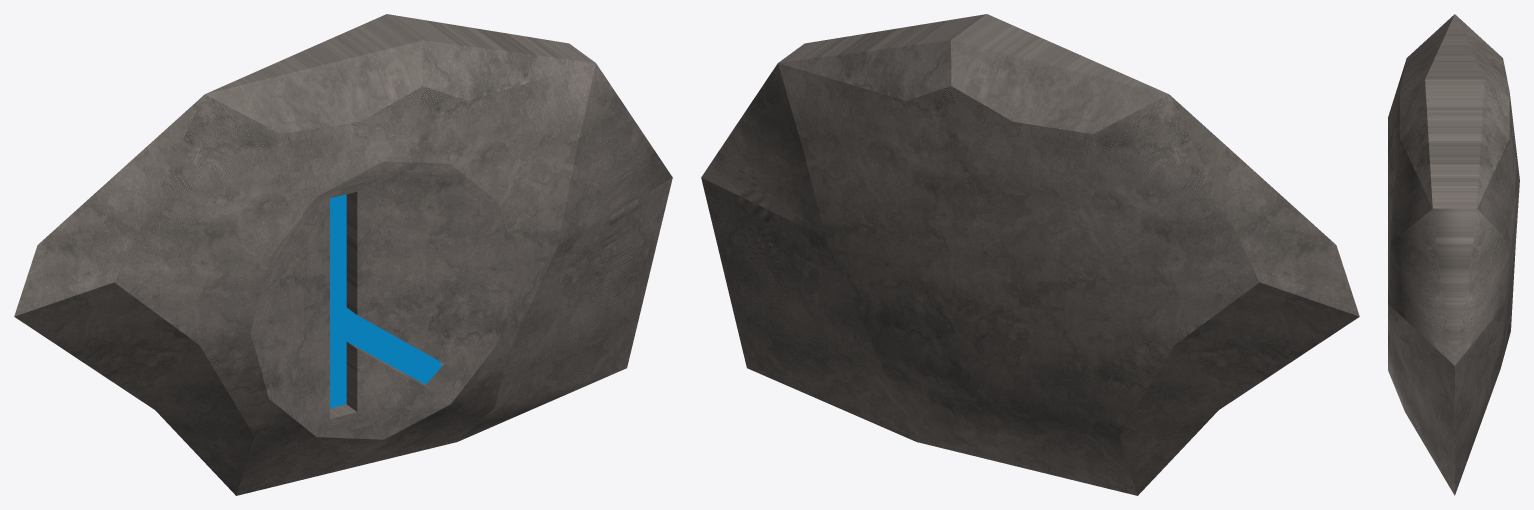
File: Acceleration_Gabriel.fbx
The picture shows the model from 3 angles, left to right: view 1: azimuth 30°, elevation 25°; view 2: azimuth 150°, elevation 25°; view 3: azimuth 270°, elevation 25°; orthographic projection. The views are drawn at different scales.
Visible parts, largest first — view 1: Acceleration_C Rune; view 2: Acceleration_C Rune; view 3: Acceleration_C Rune.
Part boxes in pixels (x1,y1,x2,y2): Acceleration_C Rune: (14,14,672,495); Acceleration_C Rune: (701,14,1359,495); Acceleration_C Rune: (1388,14,1519,495).
Size of the model in its own units: 67.57 by 41.92 by 14.18.
Materials: 1 (1 with a texture image).
